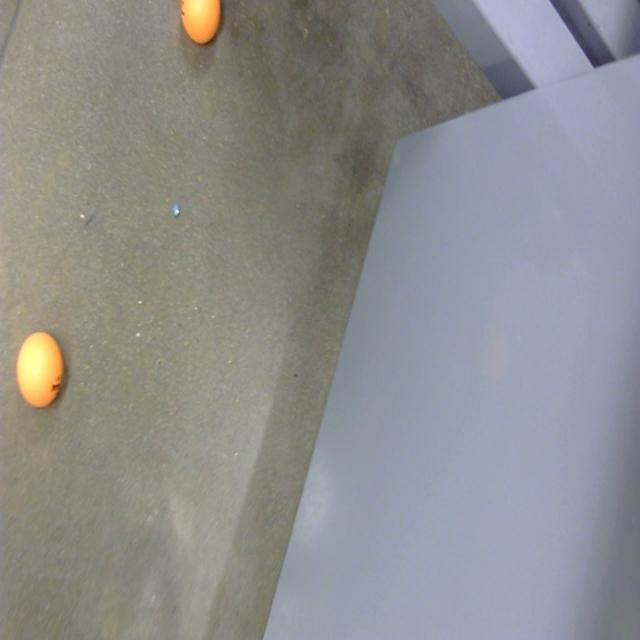ball: (15, 326, 67, 410), (178, 0, 222, 49)
